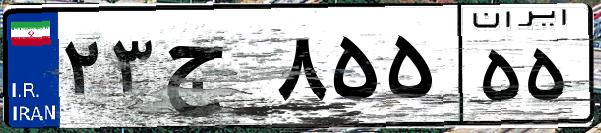2: (57, 26, 110, 100)
3: (110, 28, 158, 98)
5: (385, 28, 445, 110), (330, 28, 385, 110), (475, 38, 525, 113), (525, 38, 570, 115)
8: (270, 28, 330, 110)
ج: (158, 20, 270, 120)
